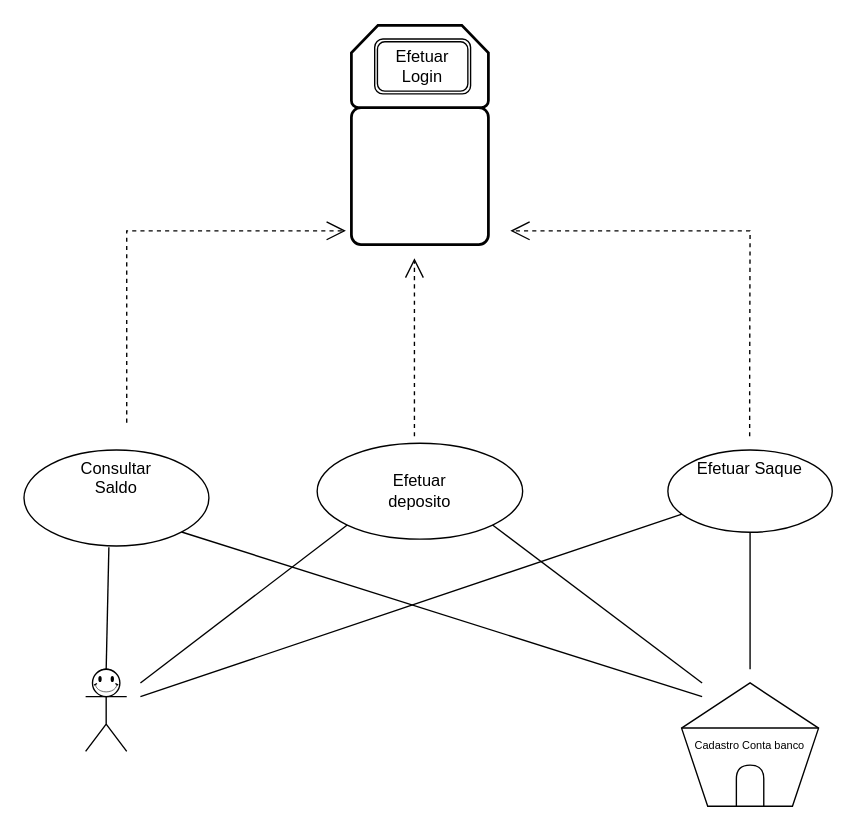
The diagram is 856 pixels wide and 830 high, and some of its shapes have lost their labels. Here are the shapes that lost their labels. From the top down, the box of each, then its label:
(349, 105, 489, 245): Caixa Eletrônico
(84, 668, 127, 751): Cliente
